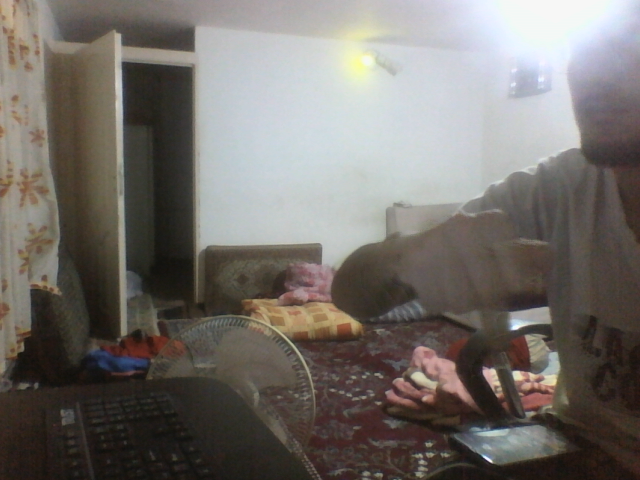attack: (403, 206, 550, 309)
